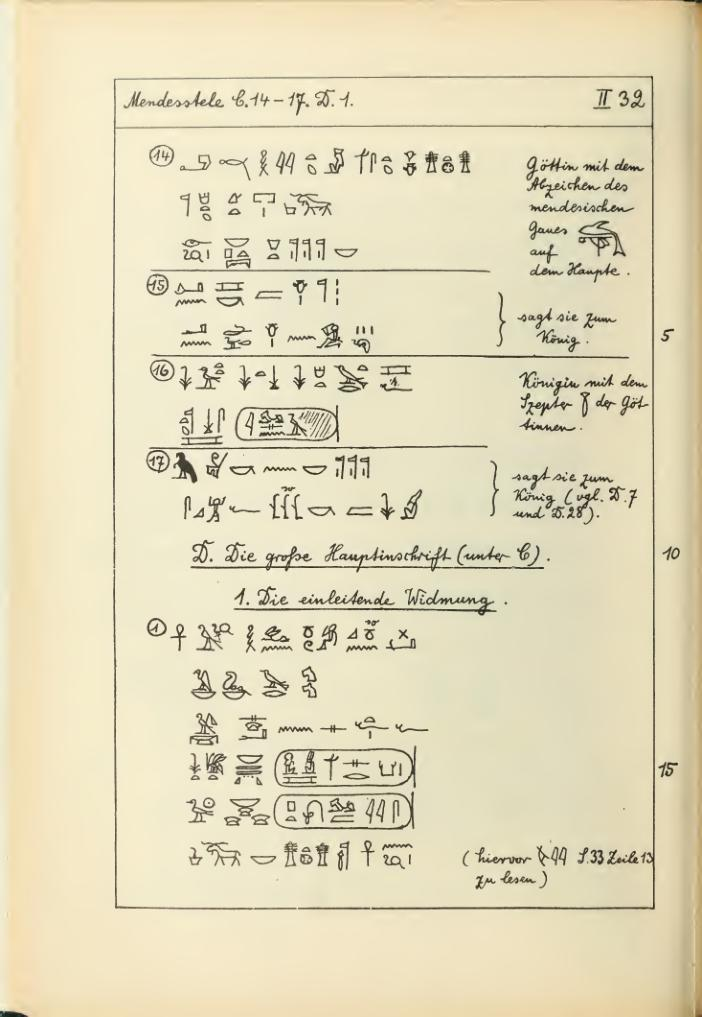circle: (222, 392, 362, 453), (273, 744, 434, 791), (270, 791, 426, 836)
